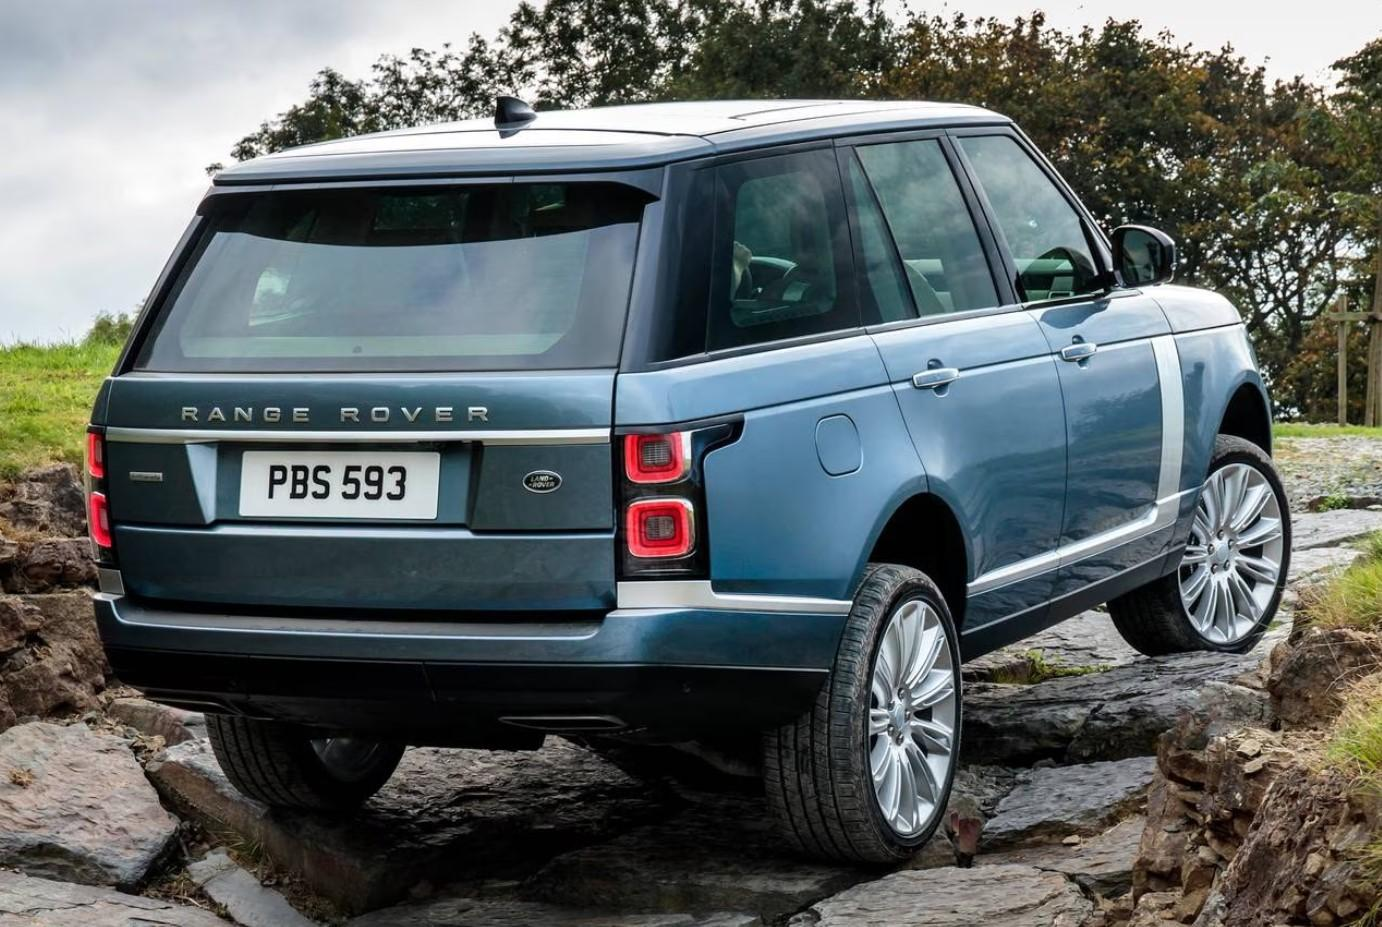range rover: (169, 383, 503, 439)
